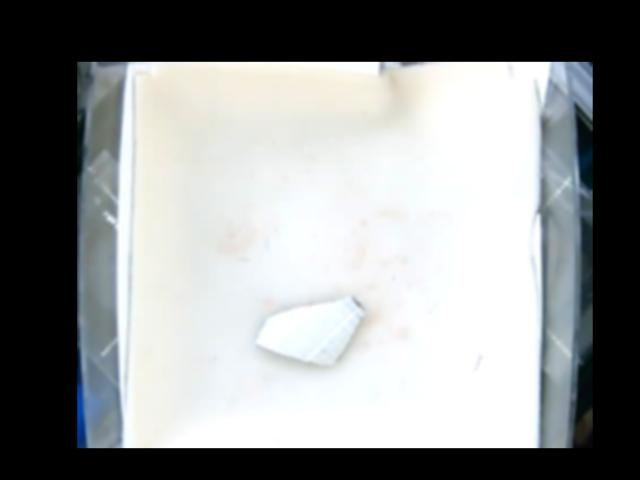China: (256, 292, 365, 366)
